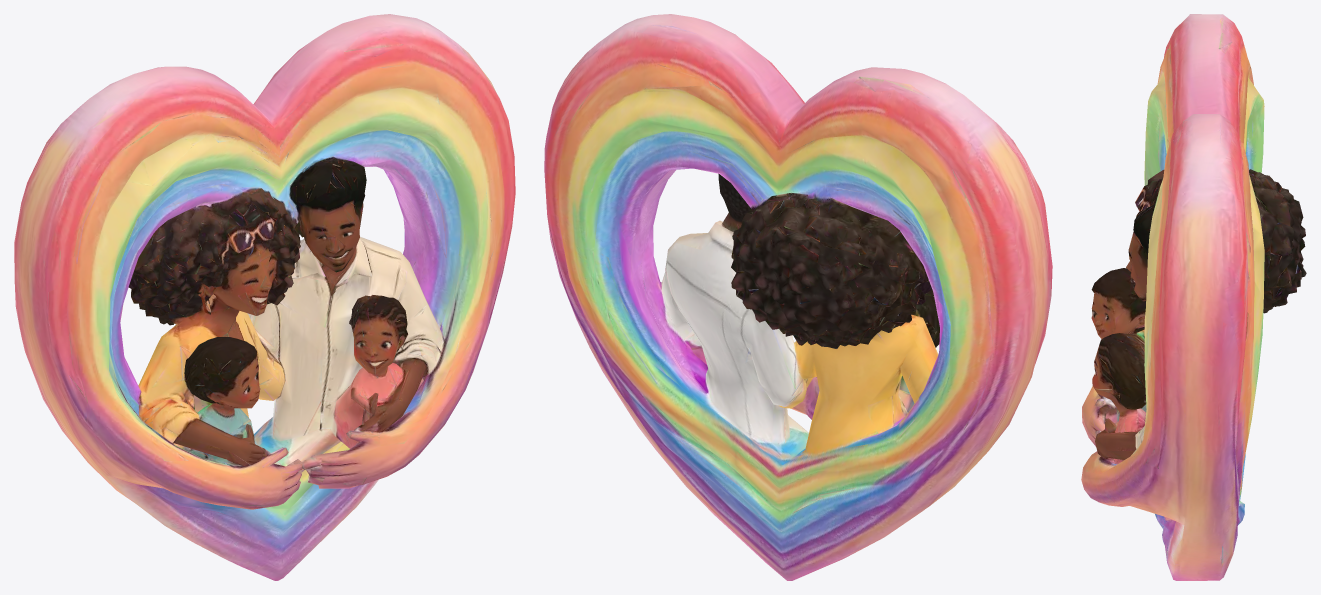
The model's file is familia.glb.
The picture shows the model from 3 angles, left to right: view 1: azimuth 30°, elevation 25°; view 2: azimuth 150°, elevation 25°; view 3: azimuth 270°, elevation 25°; orthographic projection. The views are drawn at different scales.
Parts seen in each view (by area): view 1: ar-normalized; view 2: ar-normalized; view 3: ar-normalized.
Part boxes in pixels (box(x1,y1,x2,y2)): ar-normalized: box(14, 14, 515, 580); ar-normalized: box(544, 14, 1052, 580); ar-normalized: box(1081, 14, 1306, 580).
Bounding box in the file's own units: 0.9628 × 1 × 0.4046.
Materials: 1 (1 with a texture image).
